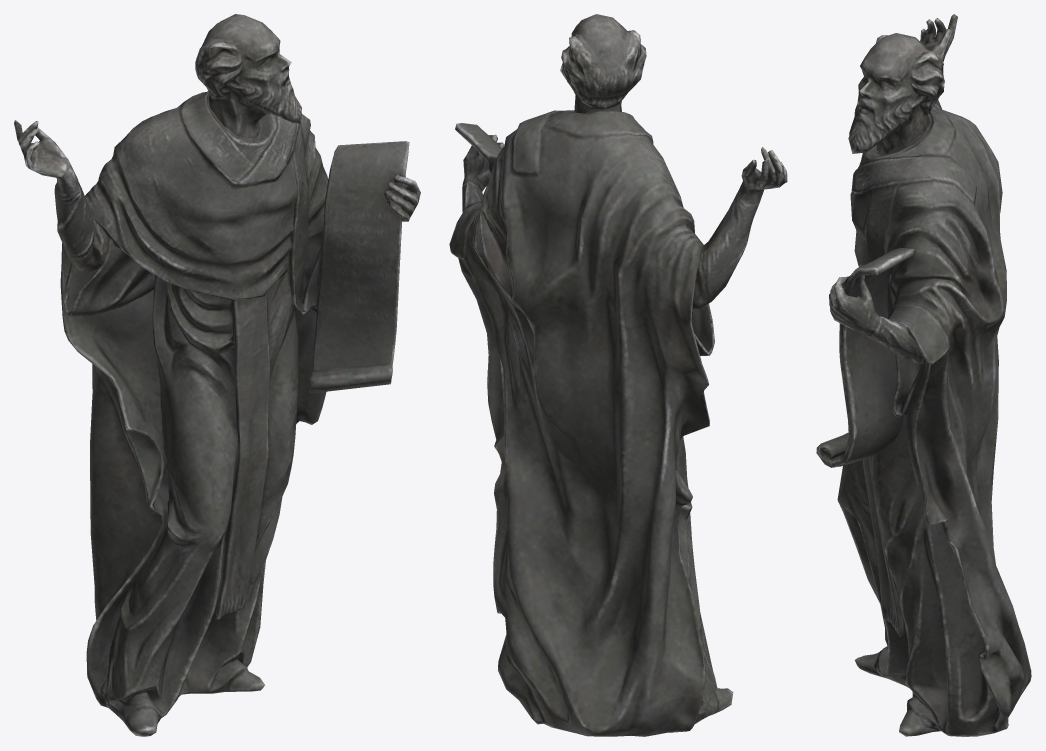
The model's file is Man_statue_Head.fbx.
The picture shows the model from 3 angles, left to right: view 1: azimuth 30°, elevation 25°; view 2: azimuth 150°, elevation 25°; view 3: azimuth 270°, elevation 25°; orthographic projection. The views are drawn at different scales.
Parts seen in each view (by area): view 1: Mesh_Statuette_03_LOD0, Mesh_Statuette_03_LOD0.001; view 2: Mesh_Statuette_03_LOD0, Mesh_Statuette_03_LOD0.001; view 3: Mesh_Statuette_03_LOD0, Mesh_Statuette_03_LOD0.001.
Part boxes in pixels (x1,y1,x2,y2): Mesh_Statuette_03_LOD0: (14,91,420,736); Mesh_Statuette_03_LOD0.001: (195,14,301,138); Mesh_Statuette_03_LOD0: (449,110,787,736); Mesh_Statuette_03_LOD0.001: (560,14,646,113); Mesh_Statuette_03_LOD0: (816,14,1031,736); Mesh_Statuette_03_LOD0.001: (848,33,944,154).
Size of the model in its own units: 24.4 by 44.01 by 12.47.
